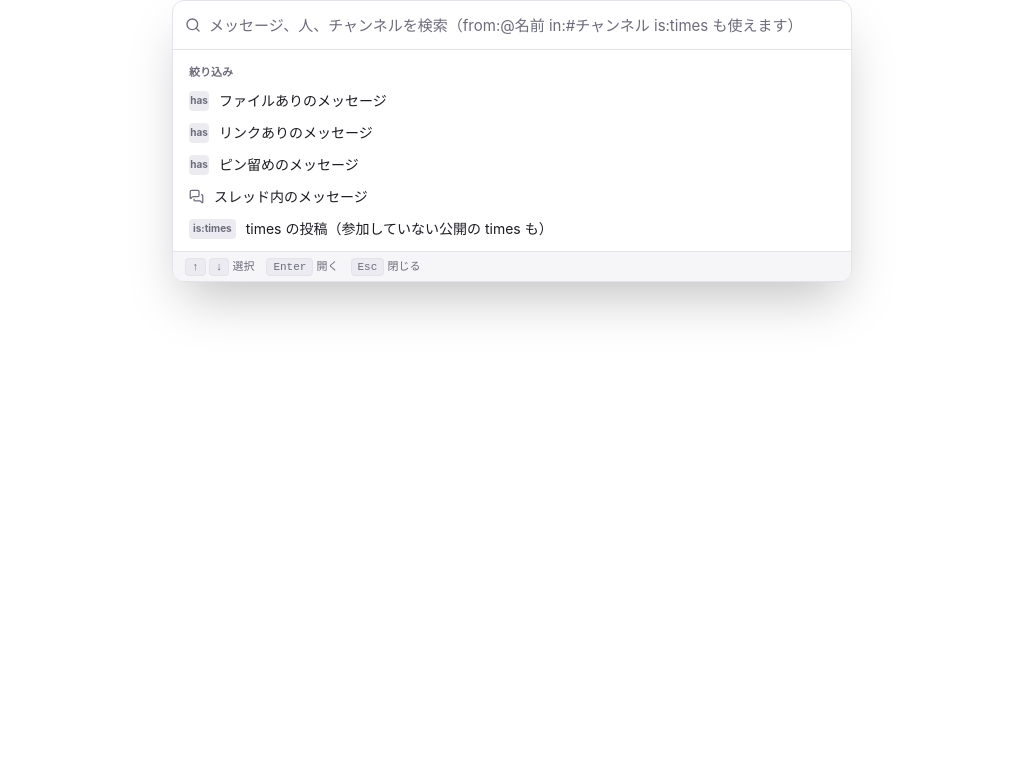
Test: search box live results › says when nothing matches or the search failed, without a toast
Type "zzz" into the field named "検索語" at (524, 25), box [209, 1, 839, 49]
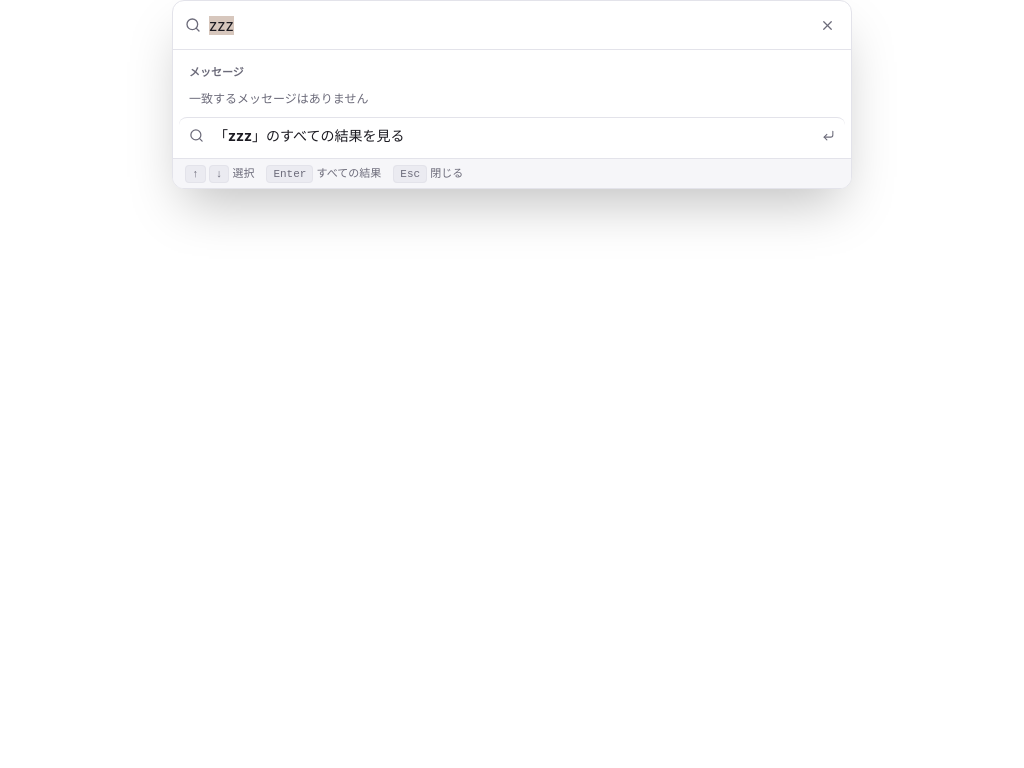
Now the text "一致するメッセージはありません" is shown, box [189, 90, 368, 106]
Replace the text in the field named "検索語" with "zzzz" at (508, 25), box [209, 1, 808, 49]
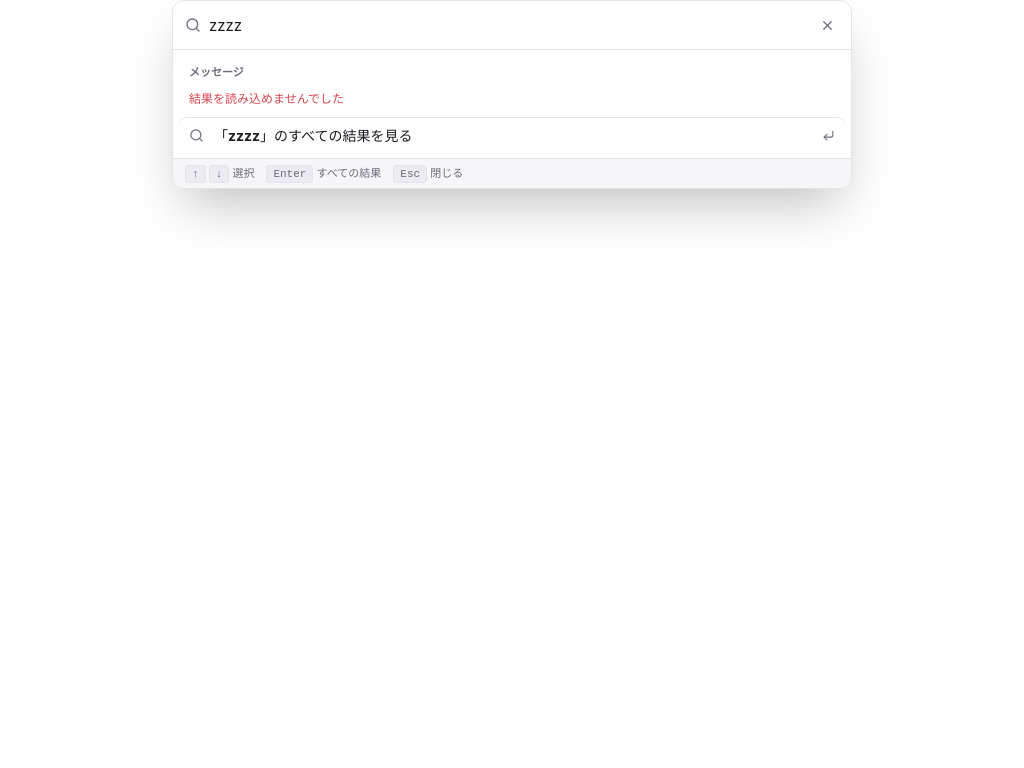
Now the text "結果を読み込めませんでした" is shown, box [189, 90, 344, 106]
